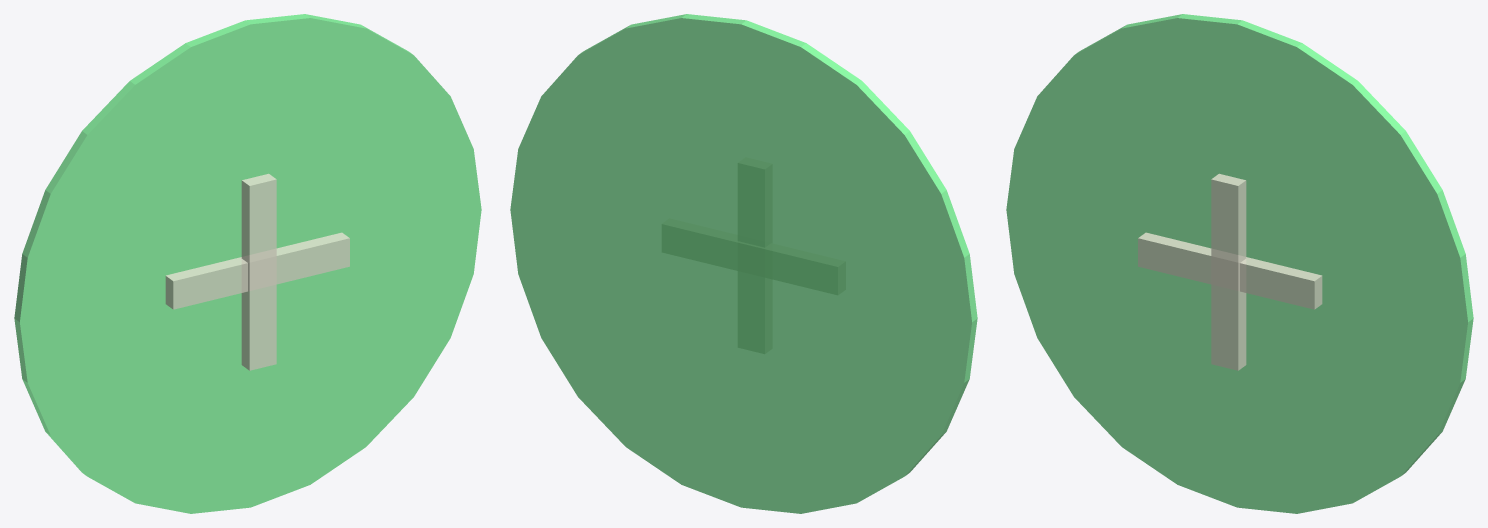
Rendered from safe_zone_marker.glb.
The picture shows the model from 3 angles, left to right: view 1: azimuth 30°, elevation 25°; view 2: azimuth 150°, elevation 25°; view 3: azimuth 330°, elevation 25°; orthographic projection.
Visible parts, largest first — view 1: safe_disc, cross_b, cross_a; view 2: safe_disc; view 3: safe_disc, cross_b, cross_a.
Part boxes in pixels (left/top/right/bottom): safe_disc: left=14, top=14, right=481, bottom=513; cross_b: left=241, top=173, right=276, bottom=370; cross_a: left=165, top=232, right=349, bottom=309; safe_disc: left=510, top=14, right=977, bottom=513; safe_disc: left=1006, top=14, right=1473, bottom=513; cross_b: left=1211, top=173, right=1246, bottom=370; cross_a: left=1138, top=232, right=1322, bottom=309.
Size of the model in its own units: 1.7 by 1.7 by 0.1145.
